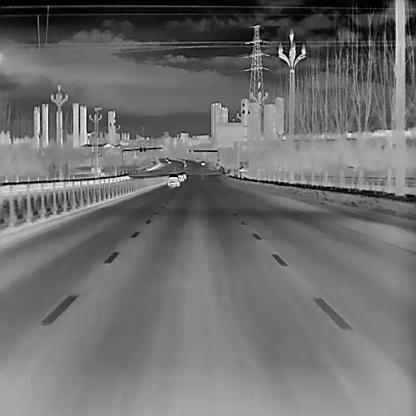car: (167, 172, 179, 187), (176, 172, 183, 180), (166, 157, 172, 162), (200, 158, 204, 165)
